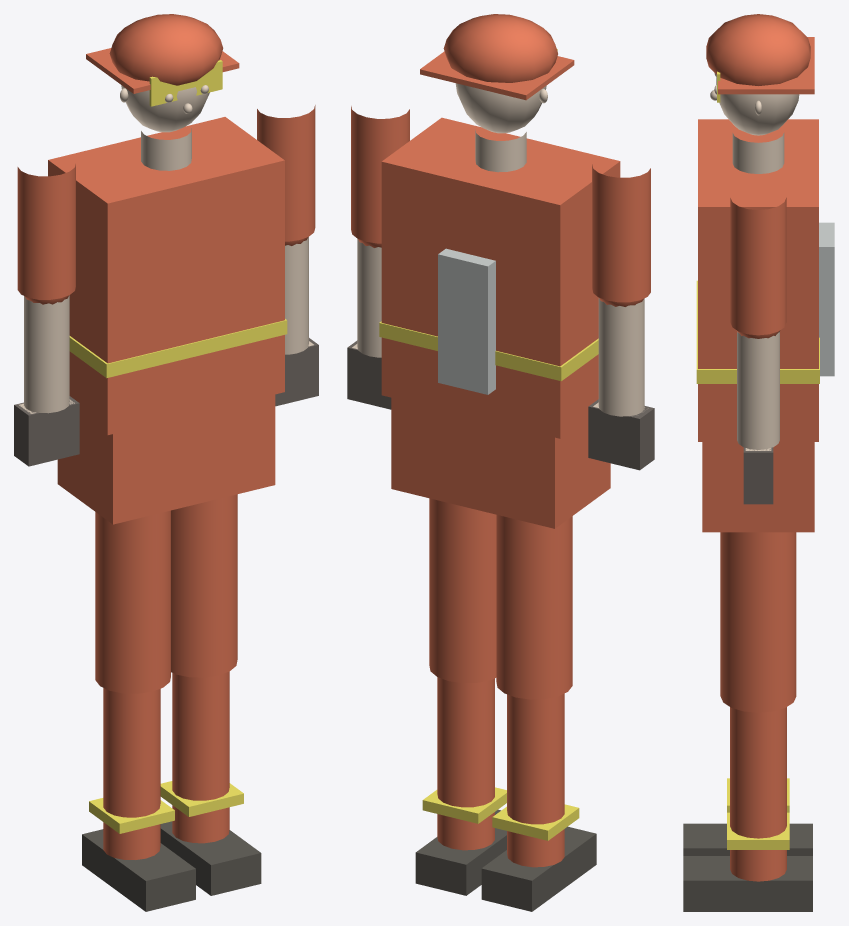
The model's file is firefighter.gltf.
3 views of the same model, side by side, from view 1: azimuth 30°, elevation 25°; view 2: azimuth 150°, elevation 25°; view 3: azimuth 270°, elevation 25° (orthographic).
Parts seen in each view (by area): view 1: torso, hips, thigh_L, thigh_R, shin_L, shin_R, upper_arm_L, helmet_shell, foot_L, lower_arm_L, upper_arm_R, foot_R (+10 smaller); view 2: torso, hips, thigh_L, thigh_R, shin_L, shin_R, scba_tank, upper_arm_L, helmet_shell, lower_arm_L, foot_L, upper_arm_R (+10 smaller); view 3: torso, thigh_R, shin_R, hips, upper_arm_R, helmet_shell, foot_R, lower_arm_R, head, scba_tank, foot_L, glove_R (+5 smaller).
Boxes of the visible parts, x1=… form: torso: x1=48, y1=117, x2=284, y2=434; hips: x1=57, y1=394, x2=275, y2=524; thigh_L: x1=95, y1=510, x2=170, y2=693; thigh_R: x1=171, y1=494, x2=237, y2=677; shin_L: x1=103, y1=688, x2=160, y2=859; shin_R: x1=172, y1=671, x2=229, y2=843; upper_arm_L: x1=17, y1=164, x2=75, y2=299; helmet_shell: x1=109, y1=14, x2=223, y2=85; foot_L: x1=82, y1=829, x2=195, y2=911; lower_arm_L: x1=24, y1=295, x2=69, y2=413; upper_arm_R: x1=257, y1=105, x2=315, y2=241; foot_R: x1=160, y1=821, x2=261, y2=895; torso: x1=381, y1=117, x2=620, y2=438; hips: x1=391, y1=397, x2=610, y2=528; thigh_L: x1=496, y1=514, x2=572, y2=699; thigh_R: x1=429, y1=498, x2=496, y2=683; shin_L: x1=507, y1=693, x2=564, y2=867; shin_R: x1=437, y1=677, x2=494, y2=850; scba_tank: x1=438, y1=248, x2=495, y2=394; upper_arm_L: x1=592, y1=164, x2=650, y2=302; helmet_shell: x1=443, y1=14, x2=557, y2=82; lower_arm_L: x1=598, y1=298, x2=644, y2=416; foot_L: x1=481, y1=826, x2=596, y2=911; upper_arm_R: x1=351, y1=106, x2=409, y2=243; torso: x1=698, y1=119, x2=818, y2=441; thigh_R: x1=720, y1=532, x2=796, y2=712; shin_R: x1=730, y1=707, x2=786, y2=881; hips: x1=702, y1=442, x2=814, y2=532; upper_arm_R: x1=730, y1=197, x2=786, y2=335; helmet_shell: x1=706, y1=14, x2=810, y2=85; foot_R: x1=683, y1=856, x2=812, y2=911; lower_arm_R: x1=737, y1=331, x2=779, y2=449; head: x1=716, y1=75, x2=799, y2=135; scba_tank: x1=819, y1=222, x2=834, y2=376; foot_L: x1=683, y1=823, x2=812, y2=855; glove_R: x1=743, y1=447, x2=773, y2=504.
Size of the model in its own units: 0.6698 by 1.87 by 0.2979.
